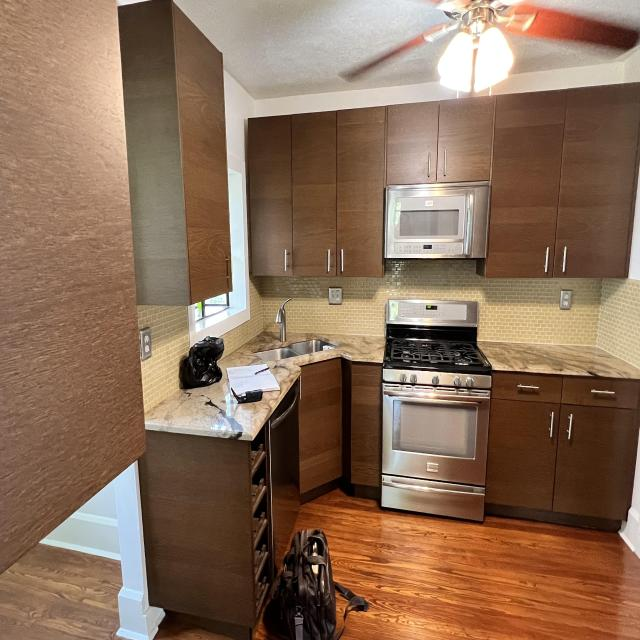Appliance_Dishwasher: (265, 378, 303, 566)
Appliance_Microwave: (384, 183, 491, 263)
Appliance_Oven: (380, 299, 492, 525)
Appliance_Sink: (252, 340, 337, 362), (274, 298, 291, 344)
Cabinet_Inset: (0, 0, 233, 577), (246, 82, 640, 281), (485, 372, 640, 534)
Cabinet_Shaker: (250, 423, 274, 623)
Countertop_Marble: (145, 332, 385, 440), (480, 342, 640, 380)
